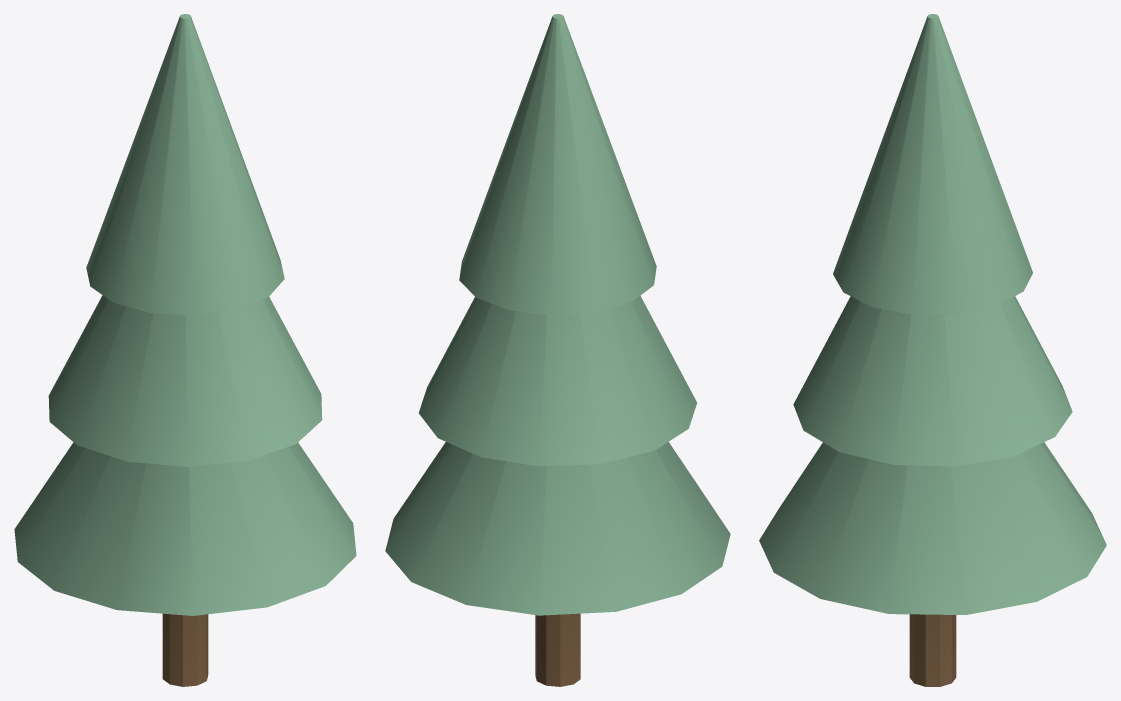
File: pine-05.envelope.glb
3 renders of one model, left to right at view 1: azimuth 30°, elevation 25°; view 2: azimuth 150°, elevation 25°; view 3: azimuth 270°, elevation 25°, orthographic.
Visible parts, largest first — view 1: pine-05.foliage, pine-05.warm; view 2: pine-05.foliage, pine-05.warm; view 3: pine-05.foliage, pine-05.warm.
Boxes of the visible parts, x1=… form: pine-05.foliage: x1=14, y1=14, x2=356, y2=615; pine-05.warm: x1=162, y1=613, x2=208, y2=686; pine-05.foliage: x1=385, y1=14, x2=730, y2=615; pine-05.warm: x1=535, y1=613, x2=580, y2=686; pine-05.foliage: x1=759, y1=14, x2=1106, y2=614; pine-05.warm: x1=909, y1=614, x2=956, y2=686.
Size of the model in its own units: 0.7342 by 1.57 by 0.7474.
